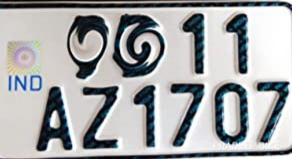0: (213, 79, 252, 147)
1: (176, 10, 211, 77), (130, 80, 161, 151), (227, 14, 252, 75)
7: (166, 79, 207, 153), (252, 75, 292, 149)
A: (28, 82, 76, 154)
Z: (77, 82, 123, 155)
